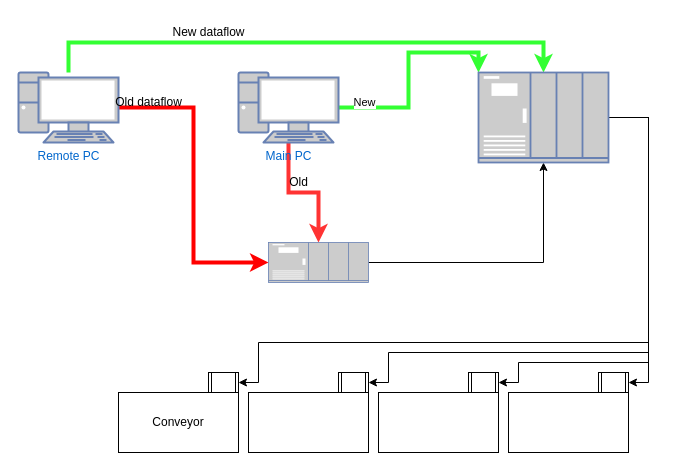
Image size: 674x470. Some labels were removed from this diagram. Here are the shapes that lost their labels. From the top down, the centre of each, then its label:
At pixel 543 117: "Line PLC Siemens".
At pixel 318 262: "Inspection PLC Mitsubishi".
